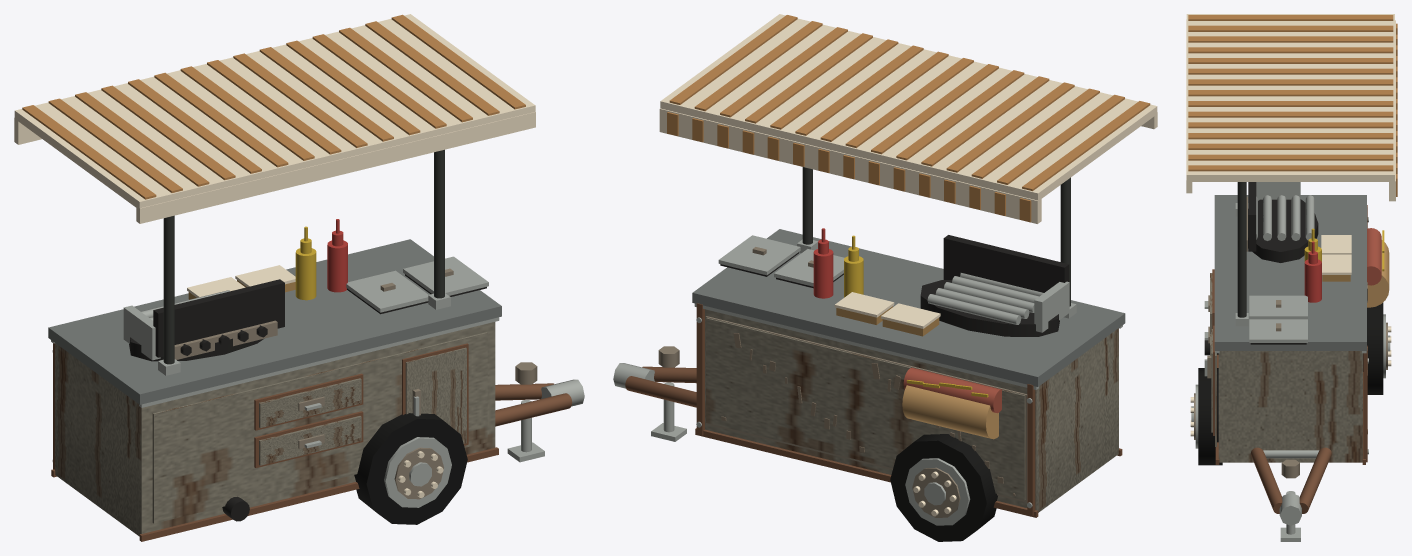
File: hot_dog_cart.glb
3 renders of one model, left to right at view 1: azimuth 30°, elevation 25°; view 2: azimuth 150°, elevation 25°; view 3: azimuth 270°, elevation 25°, orthographic. The views are drawn at different scales.
Parts seen in each view (by area): view 1: Awning underside, Reverse enamel face, Countertop, Enamel cart body, Awning rear valance, Opposite worn rubber tire, Griddle backsplash, Service door panel, Drawer face, _MeshInstance3D_44, Ingredient lid, Reverse lower rust seam (+33 smaller); view 2: Awning underside, Front enamel face, Countertop, Enamel cart body, Awning front valance, Worn rubber tire, Griddle backsplash, Illustrated bun, Hot dog roller base, Front lower rust seam, _MeshInstance3D_95, Illustrated sausage (+35 smaller); view 3: Awning underside, Enamel cart body, Countertop, Hot dog roller base, Opposite worn rubber tire, Worn rubber tire, _MeshInstance3D_51, _MeshInstance3D_59, _MeshInstance3D_49, _MeshInstance3D_53, _MeshInstance3D_57, _MeshInstance3D_61 (+30 smaller).
Boxes of the visible parts, x1,y1,x2,y2 form: Awning underside: (14,14,535,209); Reverse enamel face: (152,332,487,523); Countertop: (48,239,501,404); Enamel cart body: (55,322,495,536); Awning rear valance: (136,112,535,223); Opposite worn rubber tire: (354,413,467,524); Griddle backsplash: (153,279,284,357); Service door panel: (405,347,466,443); Drawer face: (259,378,361,427); _MeshInstance3D_44: (259,416,361,465); Ingredient lid: (346,270,428,312); Reverse lower rust seam: (139,447,498,541); Awning underside: (660,14,1157,200); Front enamel face: (706,317,1025,500); Countertop: (692,229,1125,386); Enamel cart body: (705,309,1118,512); Awning front valance: (659,108,1041,223); Worn rubber tire: (890,434,997,541); Griddle backsplash: (943,235,1069,292); Illustrated bun: (902,385,998,439); Hot dog roller base: (920,280,1059,336); Front lower rust seam: (695,428,1038,517); _MeshInstance3D_95: (718,235,800,275); Illustrated sausage: (903,367,1002,413); Awning underside: (1186,14,1394,181); Enamel cart body: (1218,351,1362,462); Countertop: (1214,195,1366,350); Hot dog roller base: (1248,199,1318,262); Opposite worn rubber tire: (1198,368,1222,465); Worn rubber tire: (1363,302,1383,394); _MeshInstance3D_51: (1188,36,1393,42); _MeshInstance3D_59: (1188,79,1393,85); _MeshInstance3D_49: (1188,25,1393,31); _MeshInstance3D_53: (1188,47,1393,53); _MeshInstance3D_57: (1188,68,1393,74); _MeshInstance3D_61: (1188,90,1393,96).
Bounding box in the file's own units: 4.75 × 3.71 × 2.08.
17 materials, 1 textured.
